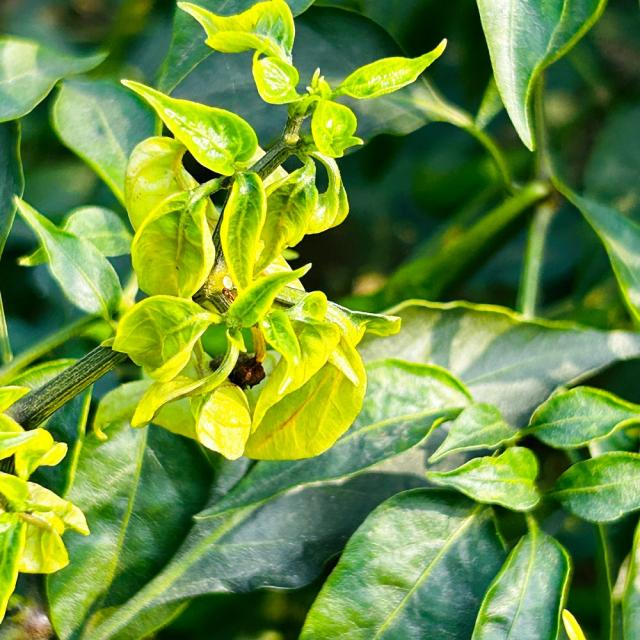Chilli_Leaf_Curl: (1, 1, 638, 638), (106, 1, 448, 462), (0, 383, 90, 623), (475, 0, 608, 152), (119, 76, 261, 177), (333, 36, 448, 100)
